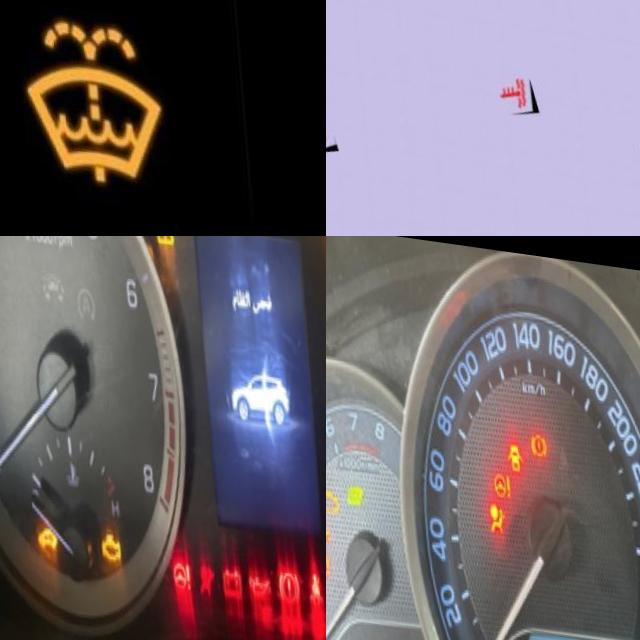Seat Belt: (296, 556, 317, 603)
Washer Fluid: (14, 5, 162, 180)
